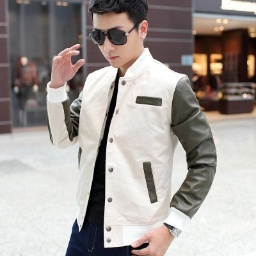face: (86, 1, 153, 70)
